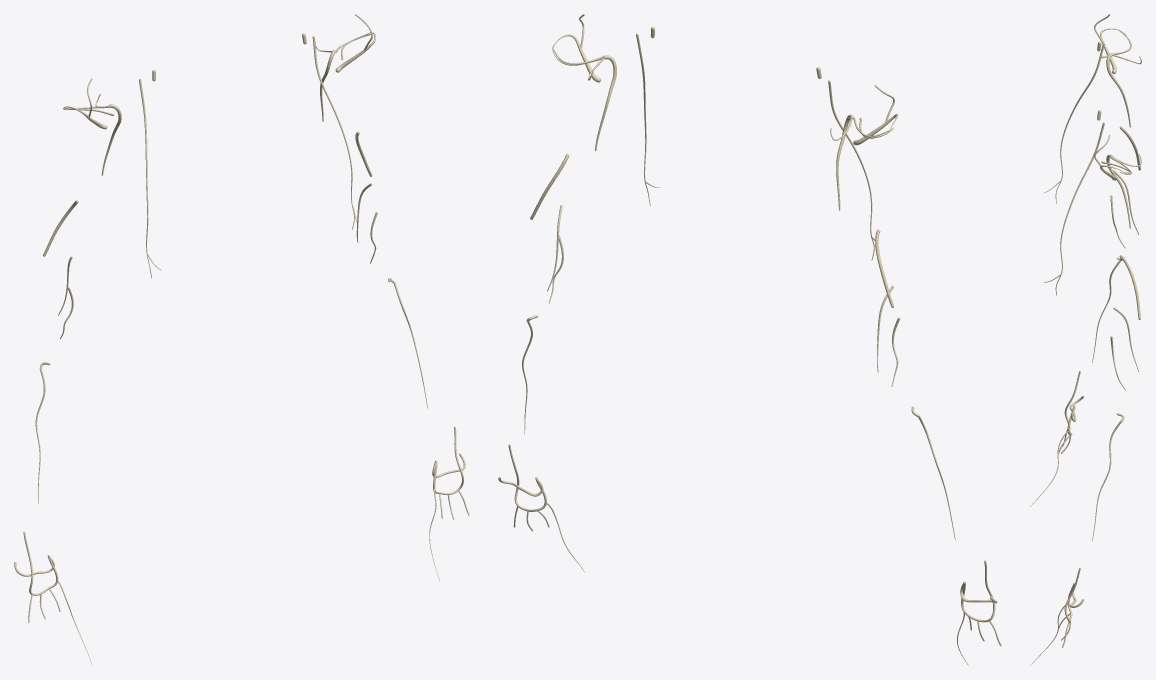
The model's file is bodyparts3d-arterial-upper-limb.glb.
The picture shows the model from 3 angles, left to right: view 1: azimuth 30°, elevation 25°; view 2: azimuth 150°, elevation 25°; view 3: azimuth 270°, elevation 25°; orthographic projection. The views are drawn at different scales.
Parts seen in each view (by area): view 1: no part large enough to name; view 2: no part large enough to name; view 3: arterial-fma22676, arterial-fma22675, arterial-fma22682, arterial-fma22813, arterial-fma22697, arterial-fma22837, arterial-fma22835, arterial-fma22683, arterial-fma22812.
Boxes of the visible parts, x1,y1,x2,y2 form: arterial-fma22676: [1043, 122, 1104, 295]; arterial-fma22675: [1044, 43, 1104, 203]; arterial-fma22682: [1094, 14, 1123, 73]; arterial-fma22813: [1092, 422, 1120, 541]; arterial-fma22697: [1119, 255, 1140, 319]; arterial-fma22837: [1064, 568, 1080, 622]; arterial-fma22835: [1064, 371, 1080, 435]; arterial-fma22683: [1094, 134, 1123, 180]; arterial-fma22812: [1092, 260, 1120, 362].
Bounding box in the file's own units: 0.5624 × 0.6537 × 0.1293.
